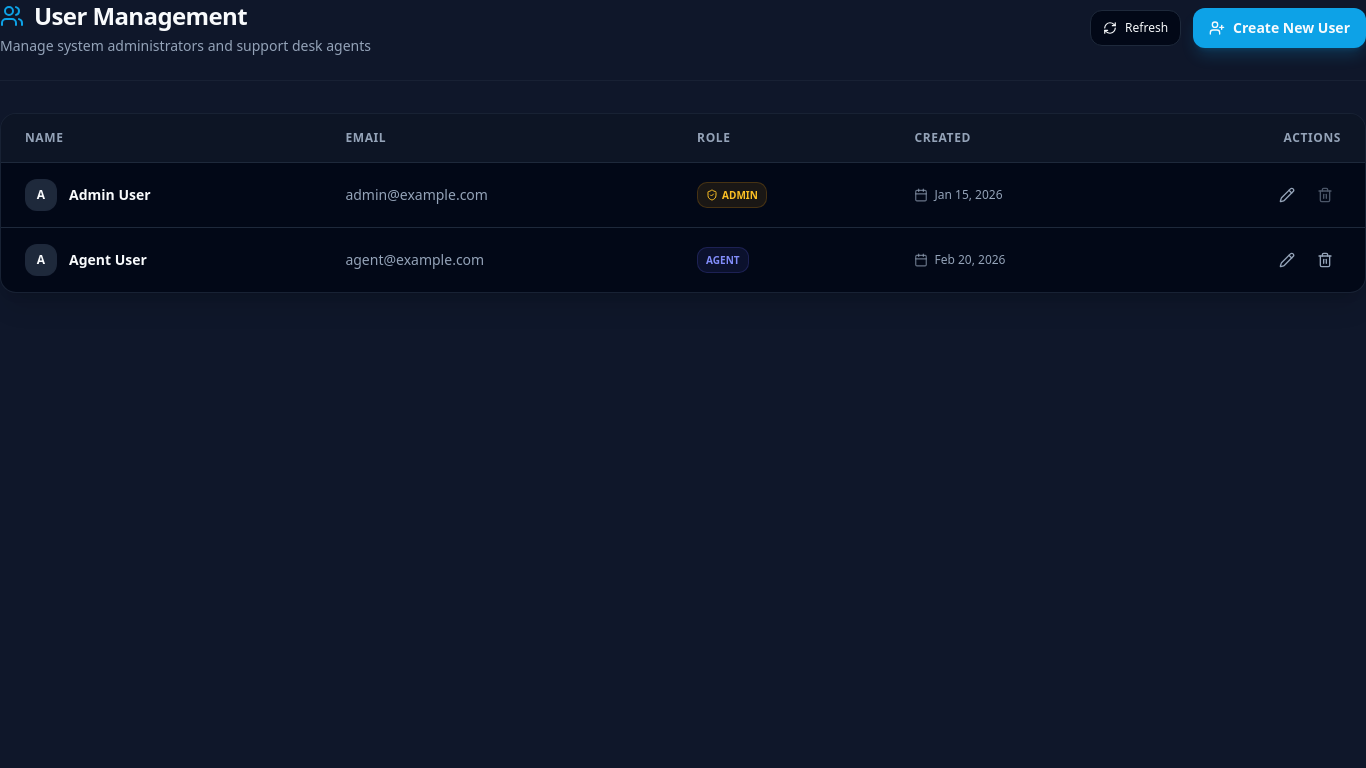
Test: UsersPage Component › should successfully update user without changing password when password is omitted
This screenshot has width=1366, height=768.
Check: the text "Agent User" is shown, box [69,250,147,270]
Note: Click edit button for Agent User
Click the button named "edit user agent user".
click(1287, 260)  # box [1271,244,1303,276]
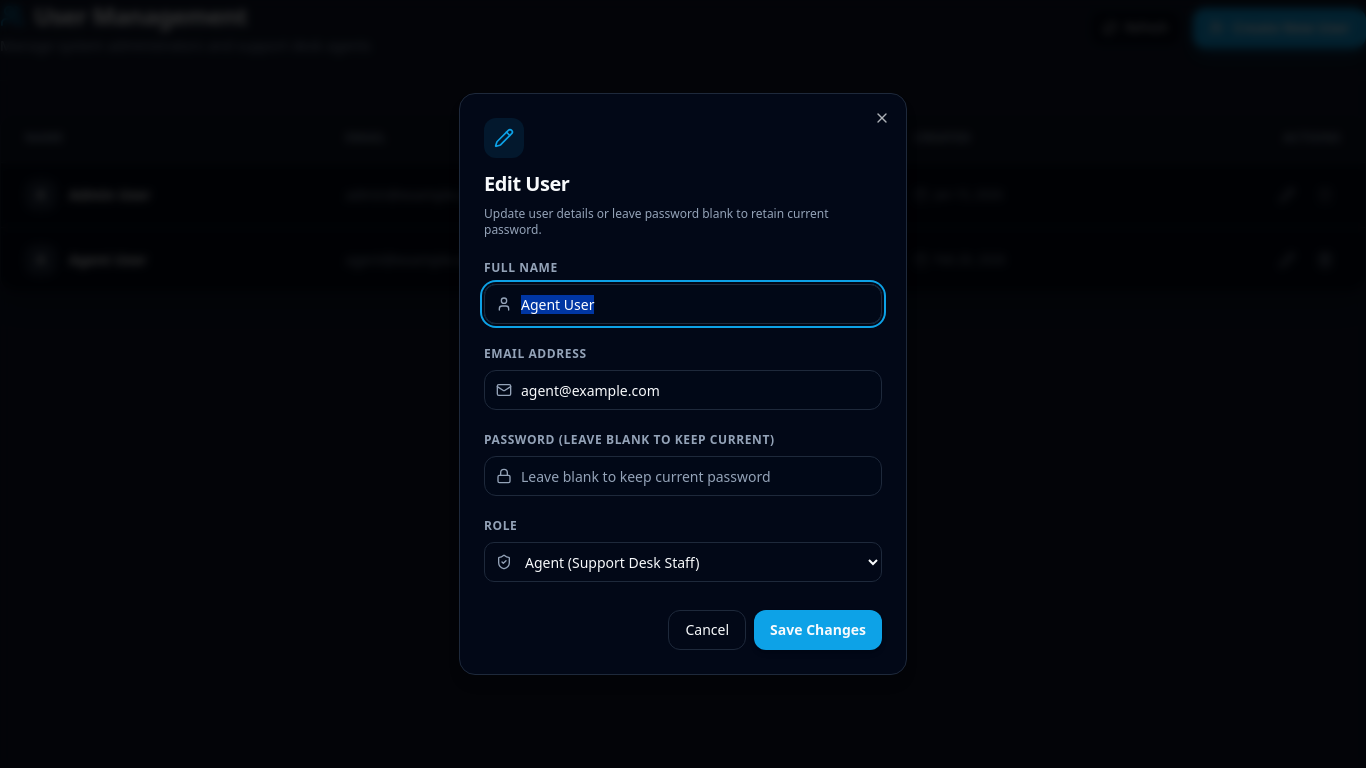
Note: Clear name and change it
Replace the text in the field labelled "Full Name" with "Agent User Modified" at [683, 304], box [484,284,882,324]
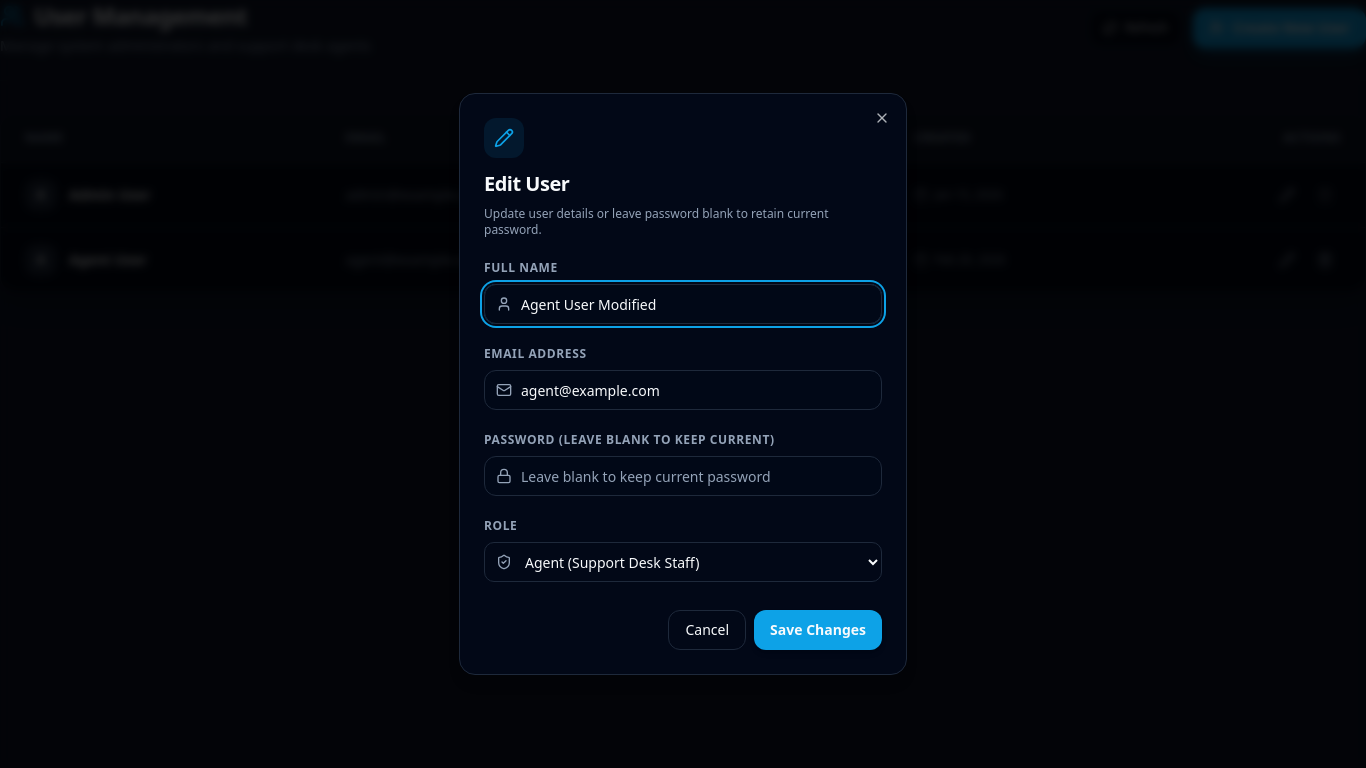
Note: Change role
Select "Administrator (Full Access)" in the dropdown labelled "Role" at [683, 562], box [484,542,882,582]
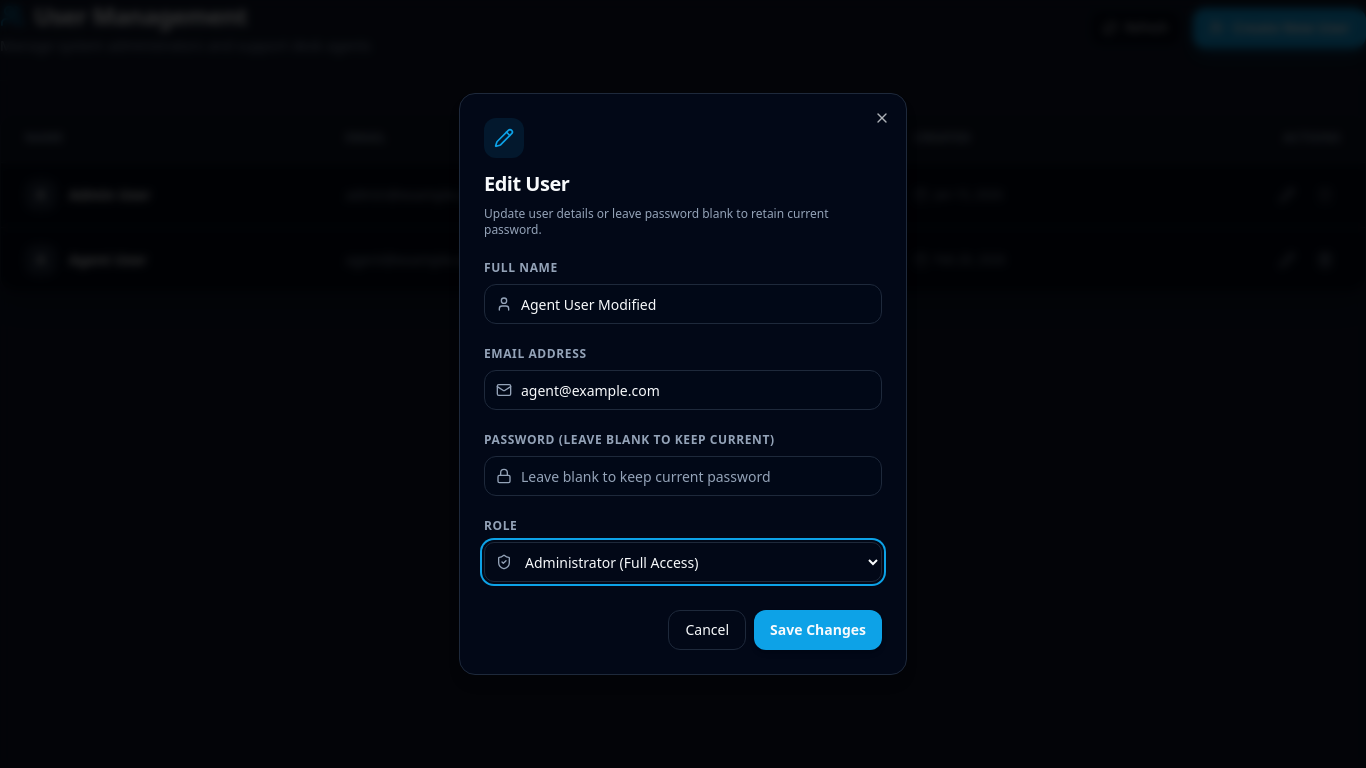
Note: Click Save Changes without touching password
Click the button "Save Changes".
click(818, 630)  # box [754,610,882,650]
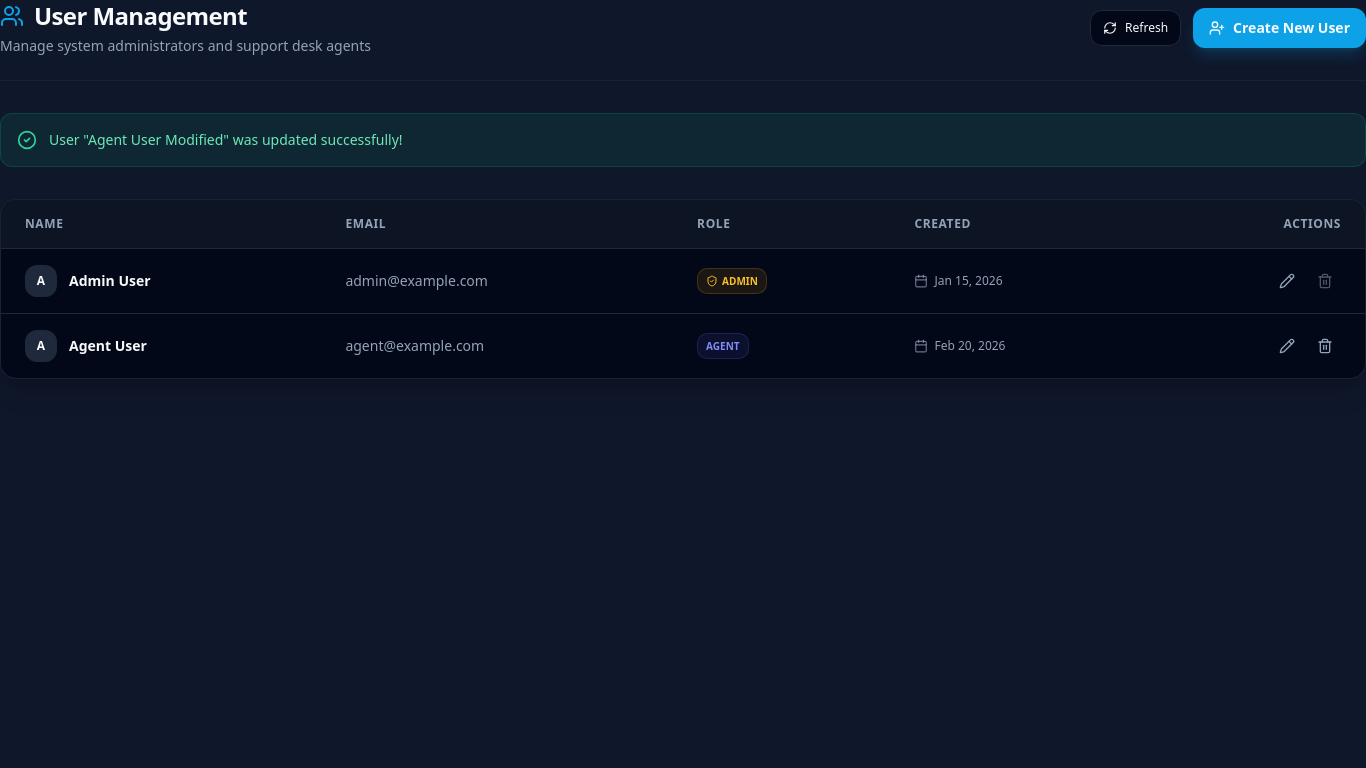
Check: the dialog is gone
Check: the text "User \"Agent User Modified\" was updated successfully!" is shown, box [49,130,403,150]
